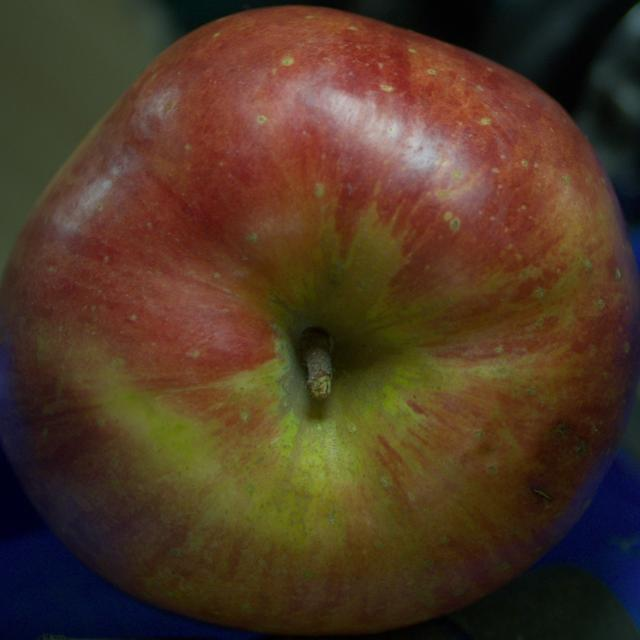apple: (0, 6, 639, 634)
bruise: (529, 419, 590, 494)
scratch: (532, 489, 552, 500)
